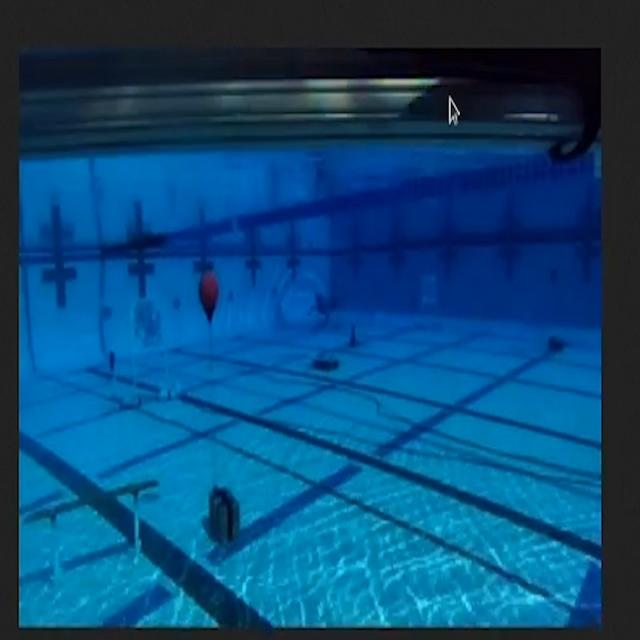Buoy: (193, 264, 223, 327)
